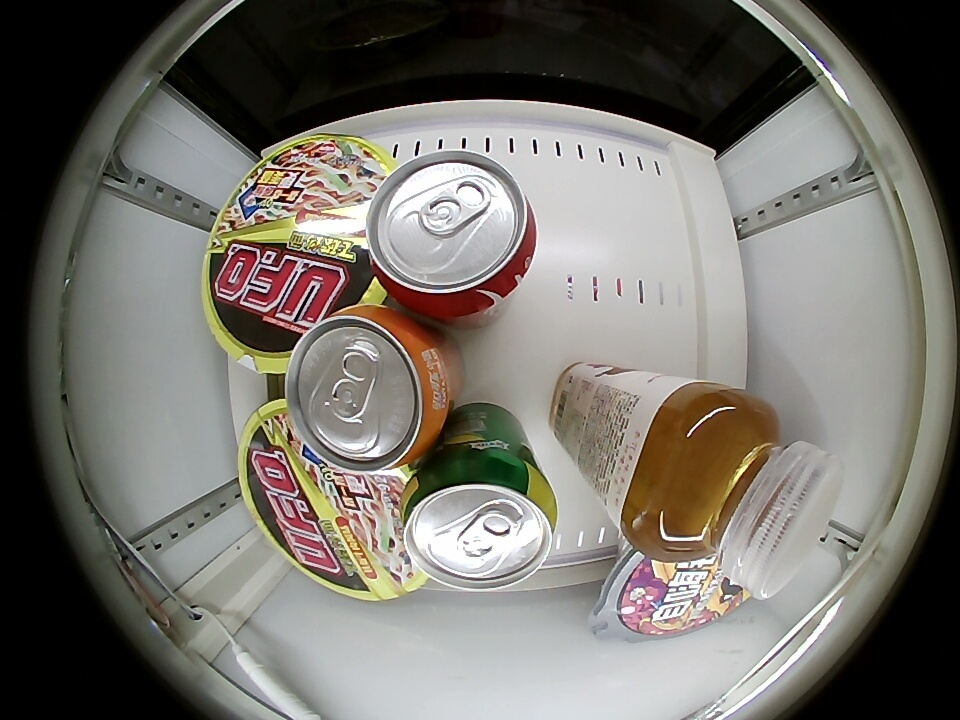chapai: (619, 381, 841, 598)
fenda: (285, 307, 452, 472)
kele: (368, 154, 537, 314)
ufo: (204, 132, 387, 373), (238, 400, 418, 601)
xuebi: (400, 453, 558, 589)
zihaiguo: (618, 554, 748, 636)
